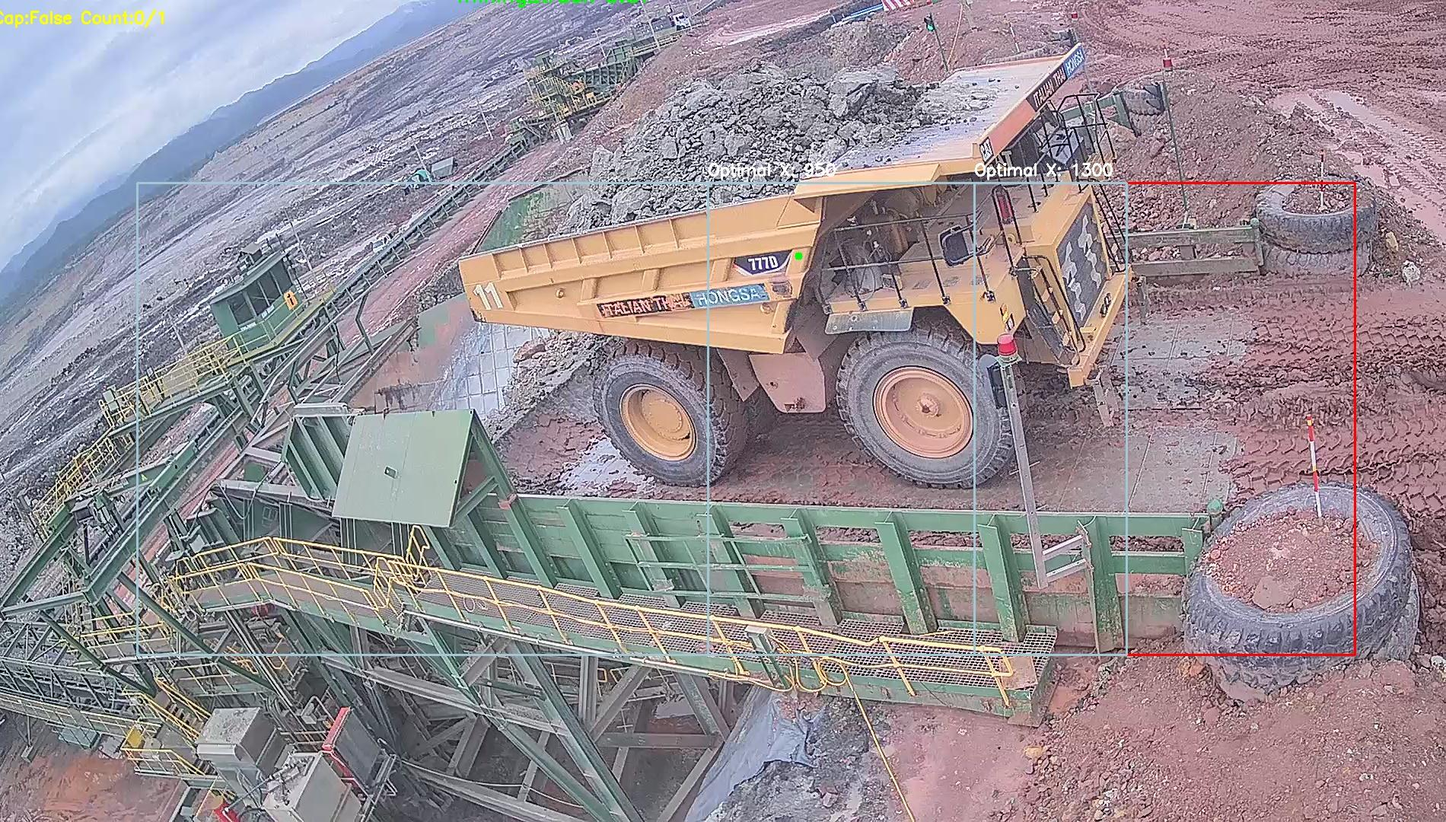company: (591, 275, 777, 322)
full_load: (608, 61, 826, 214)
mining_truck: (446, 37, 1164, 487)
tail_number: (467, 270, 508, 319)
truck_size: (727, 245, 790, 276)
